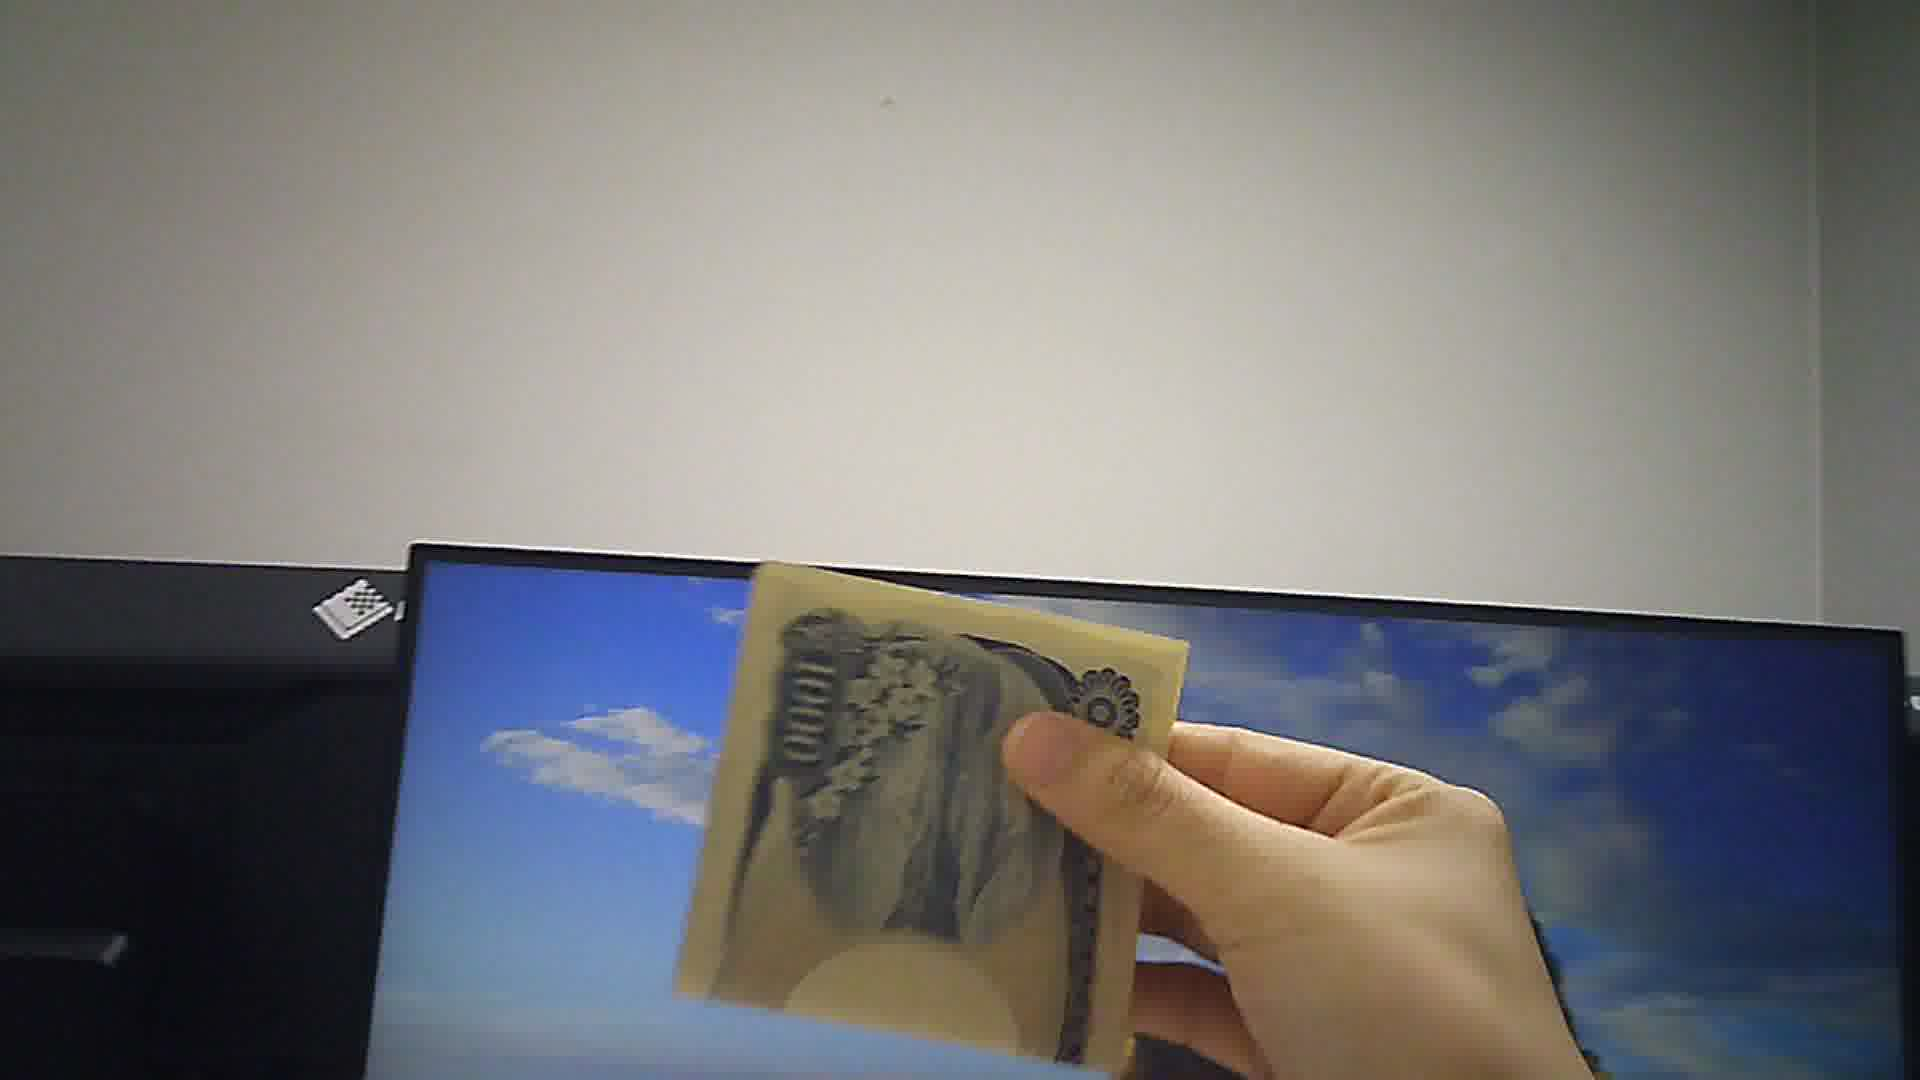1,000 Yen: (680, 553, 1174, 1068)
